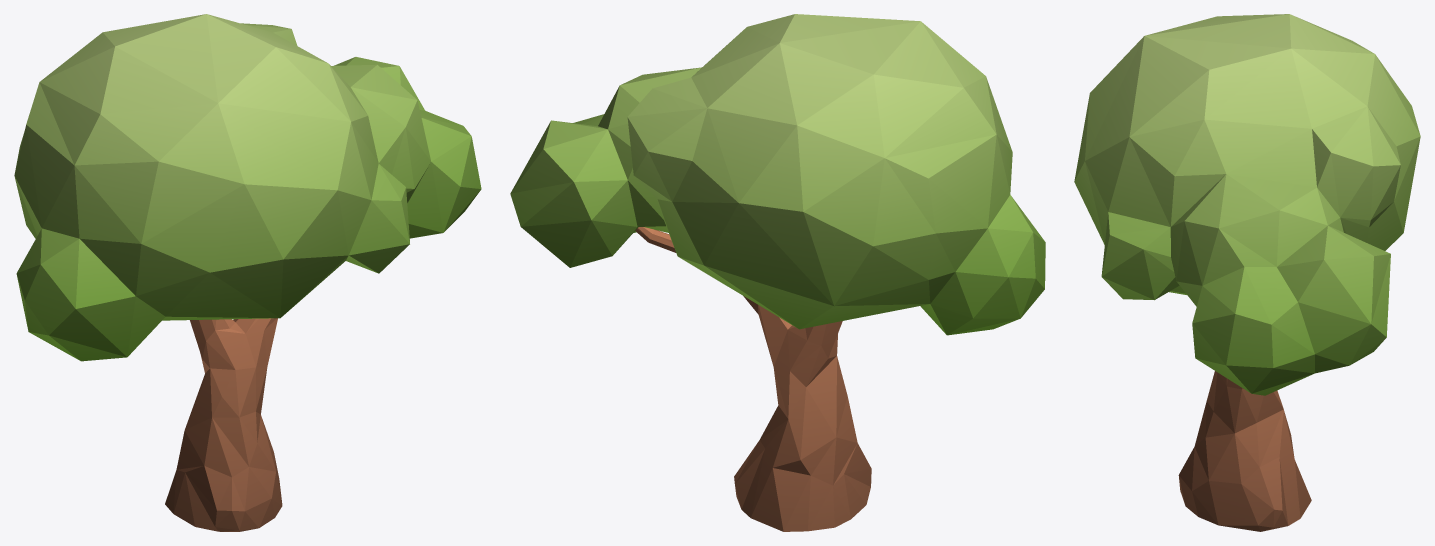
Rendered from tree-5.glb.
3 renders of one model, left to right at view 1: azimuth 30°, elevation 25°; view 2: azimuth 150°, elevation 25°; view 3: azimuth 270°, elevation 25°, orthographic. The views are drawn at different scales.
Parts seen in each view (by area): view 1: tree 5; view 2: tree 5; view 3: tree 5.
Part boxes in pixels (x1,y1,x2,y2): tree 5: (14, 14, 481, 531); tree 5: (510, 14, 1045, 531); tree 5: (1074, 14, 1420, 531).
Bounding box in the file's own units: 12.53 × 12.04 × 8.24.
Materials: 1 (1 with a texture image).
